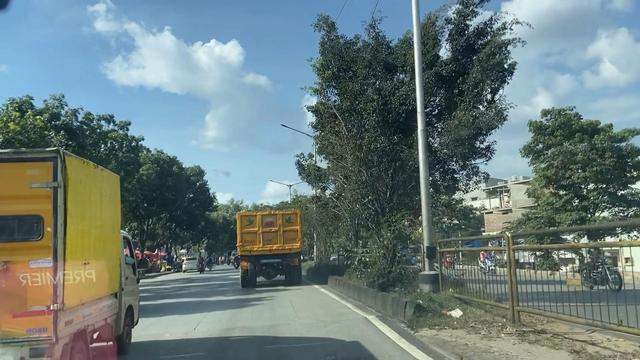HMV: (1, 146, 136, 356), (231, 200, 303, 293)
